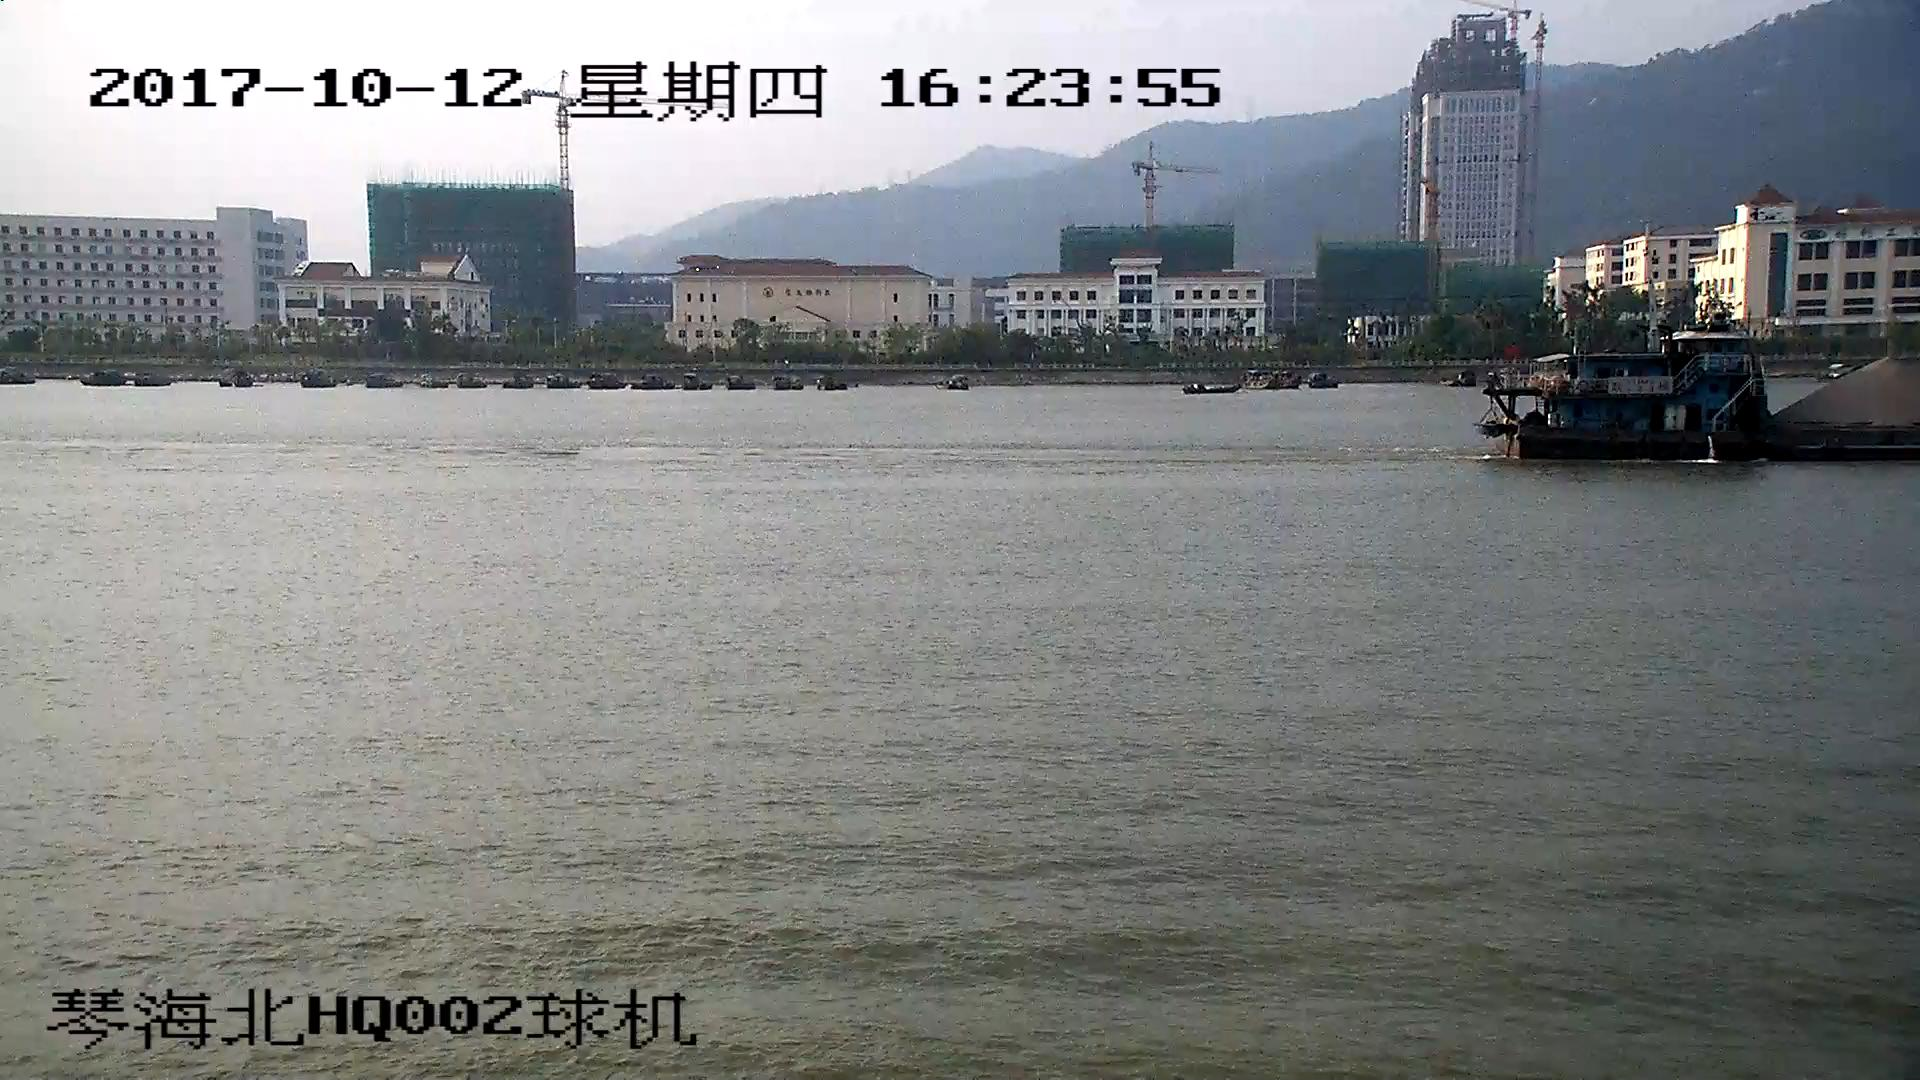ore carrier: (1490, 334, 1920, 460)
